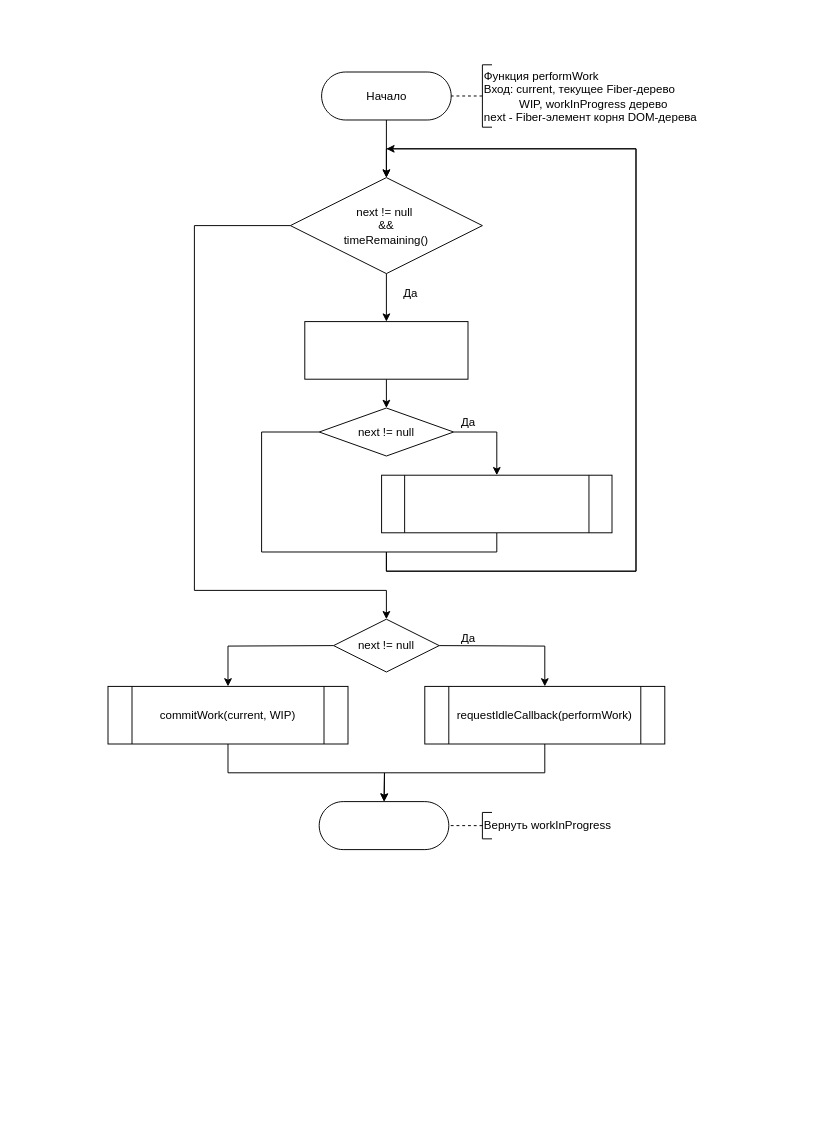
This 820x1146 diagram has some shape labels left out. Each missing label, with the box of its shape:
next = beginWork(next): (304, 321, 468, 379)
next = completeWork(current, WIP): (381, 474, 612, 533)
Конец: (318, 801, 449, 850)
